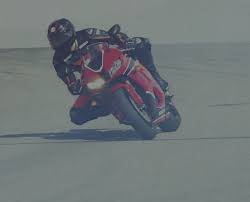motorcycle: (67, 24, 183, 141)
